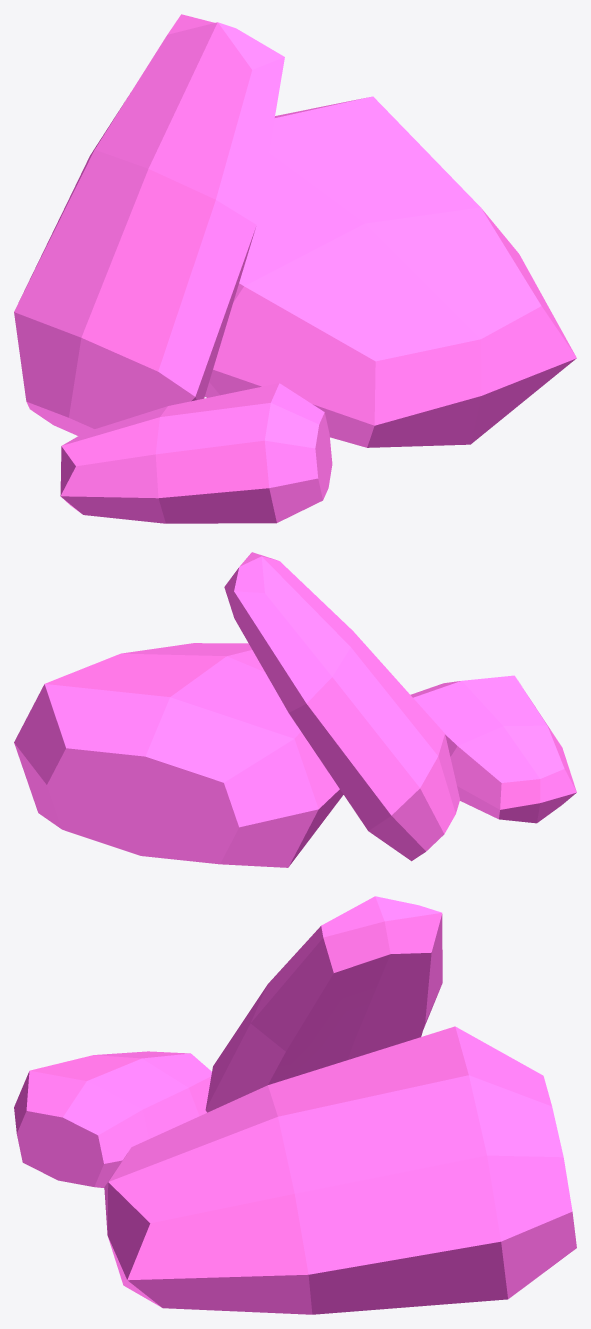
File: Flint4.fbx
3 renders of one model, top to bottom at view 1: azimuth 30°, elevation 25°; view 2: azimuth 150°, elevation 25°; view 3: azimuth 270°, elevation 25°, orthographic. The views are drawn at different scales.
Visible parts, largest first — view 1: shard_of_ore_2_Cube.118; view 2: shard_of_ore_2_Cube.118; view 3: shard_of_ore_2_Cube.118.
Part boxes in pixels (x1=…): shard_of_ore_2_Cube.118: x1=14, y1=14, x2=576, y2=523; shard_of_ore_2_Cube.118: x1=14, y1=552, x2=576, y2=867; shard_of_ore_2_Cube.118: x1=14, y1=896, x2=576, y2=1314.
Size of the model in its own units: 0.4116 by 0.2587 by 0.3908.
